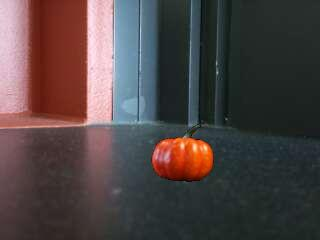Pumpkin: (150, 124, 214, 184)
